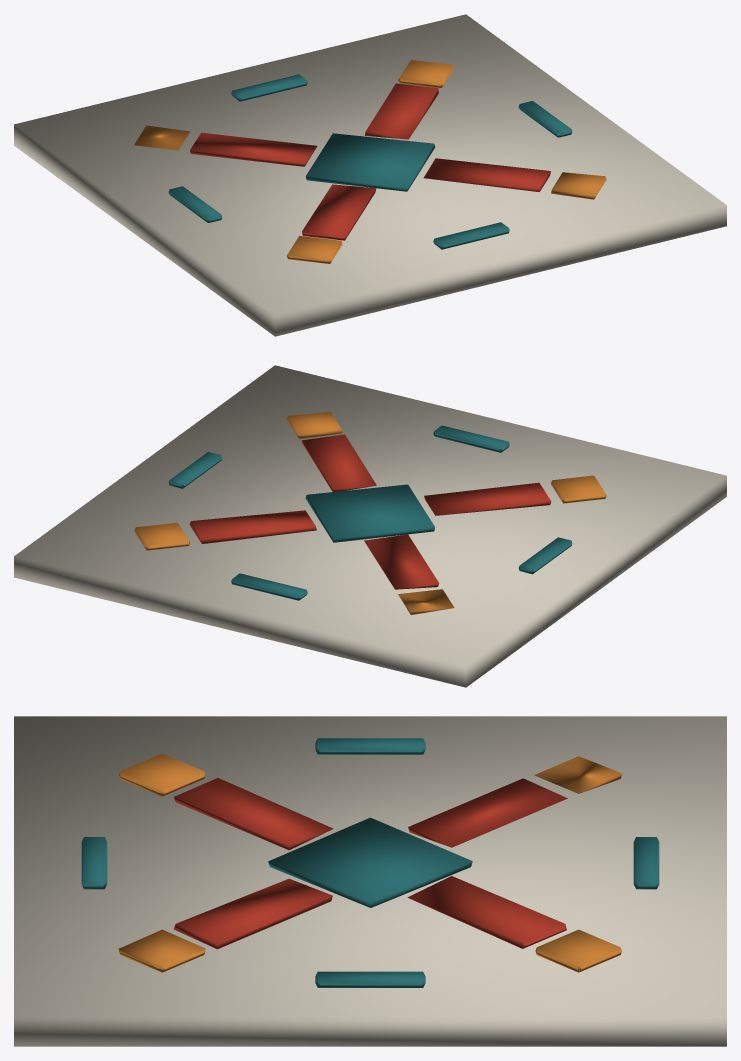
File: gach_bong.glb
The picture shows the model from 3 angles, top to bottom: view 1: azimuth 30°, elevation 25°; view 2: azimuth 150°, elevation 25°; view 3: azimuth 270°, elevation 25°; orthographic projection. The views are drawn at different scales.
Parts seen in each view (by area): view 1: gach_bong; view 2: gach_bong; view 3: gach_bong.
Boxes of the visible parts, <box> form: gach_bong: <box>14,14,726,336</box>; gach_bong: <box>14,365,726,687</box>; gach_bong: <box>14,716,726,1046</box>.
Size of the model in its own units: 0.3875 by 0.0221 by 0.3874.
